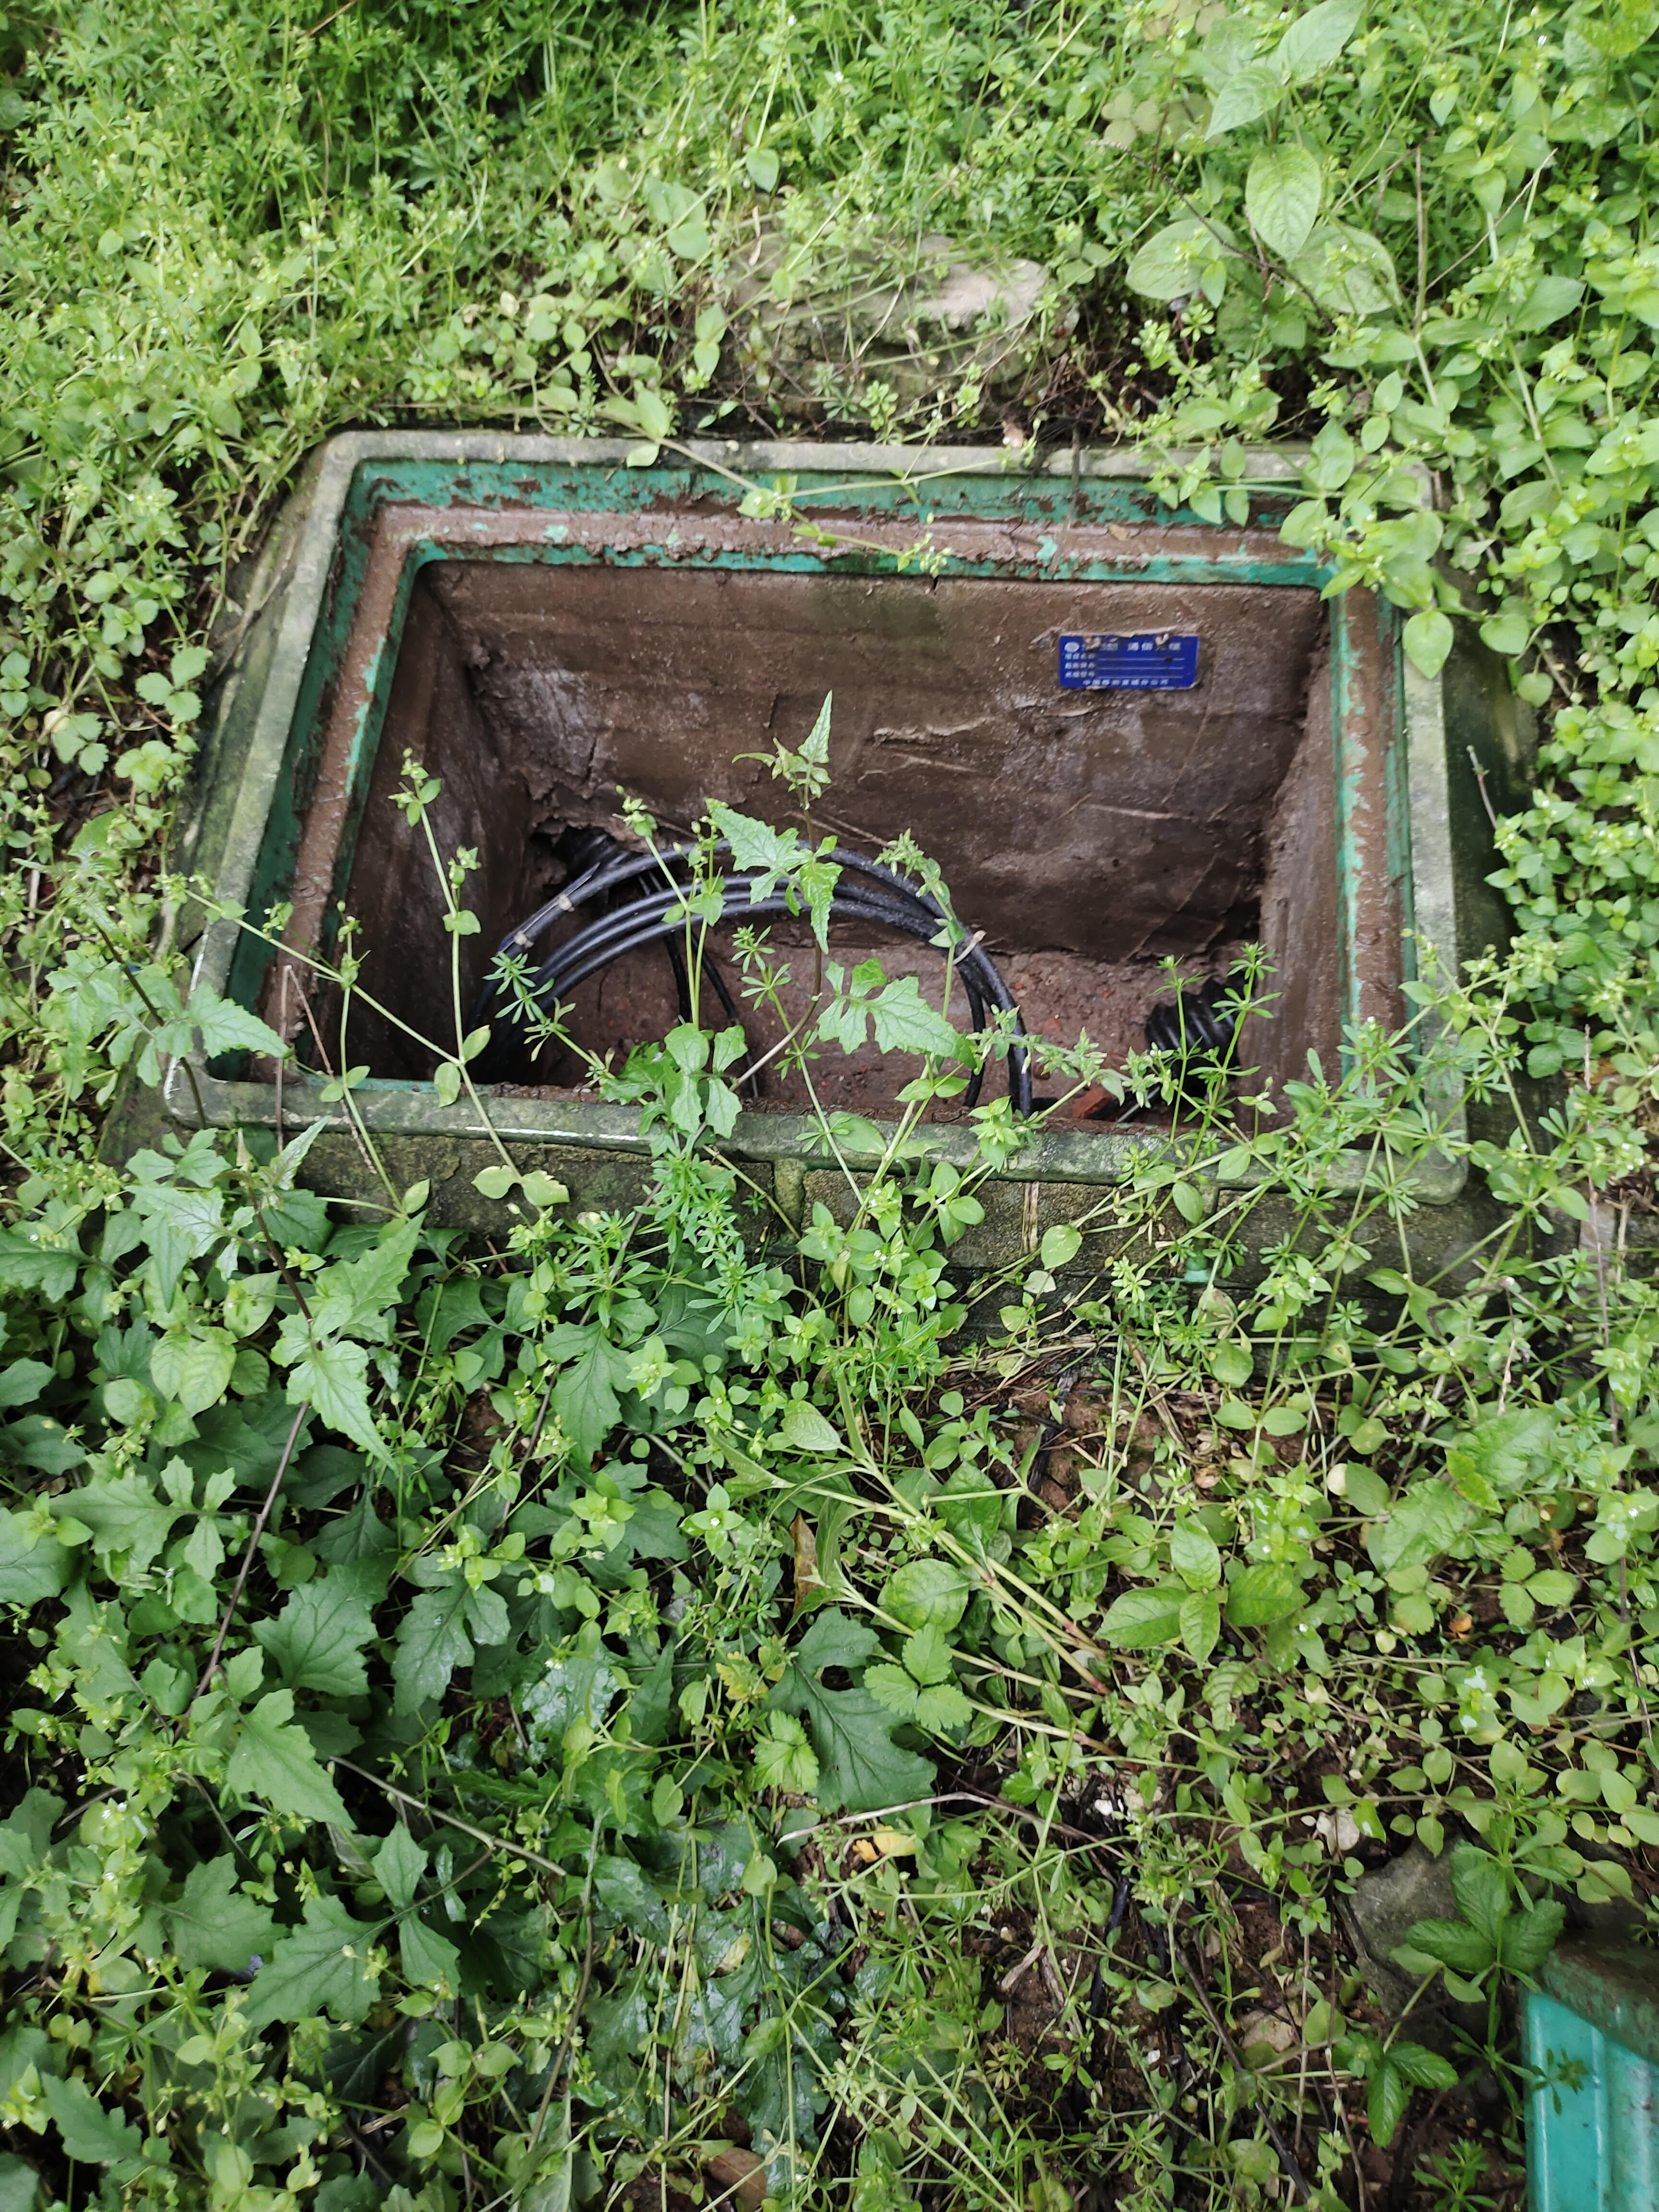wellcover: (122, 357, 1511, 1219)
